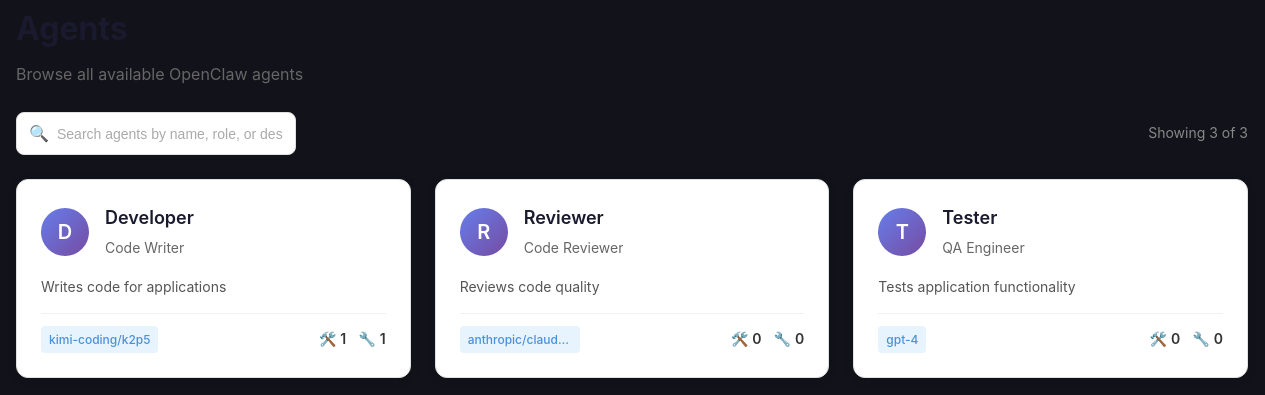
Test case: AgentsPage › filters agents by name (case-insensitive)
Type "dev" into the field.
click(170, 134); type("dev")  # box [57, 126, 283, 142]
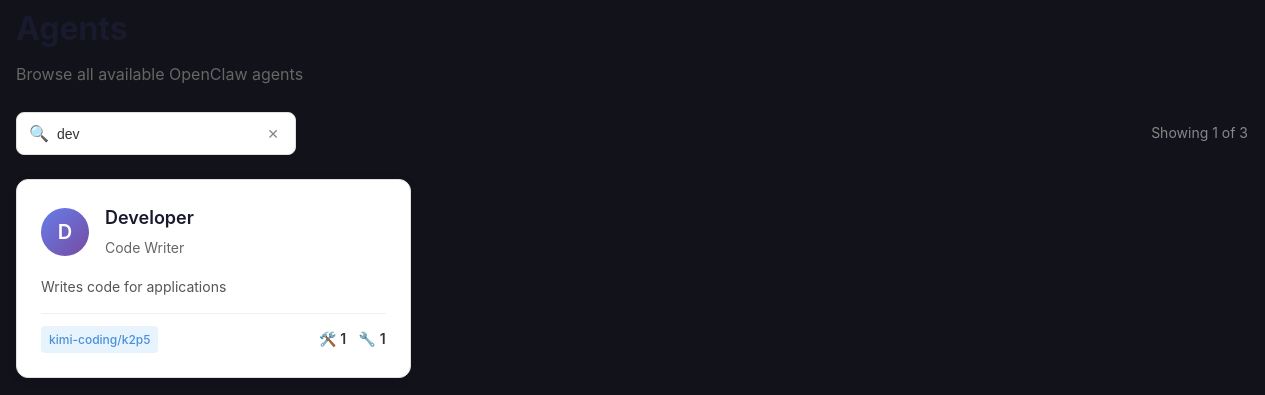
Expected: the heading "Developer" is shown, [105, 204, 194, 233]
Expected: the button "Reviewer" is gone
Expected: the button "Tester" is gone
